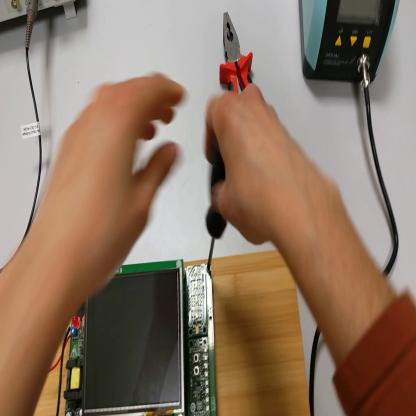hand: (42, 73, 183, 299), (204, 83, 307, 248)
low voltage board: (50, 259, 221, 413)
oscilloscope: (3, 3, 84, 35)
pliers: (221, 8, 254, 95)
screwdriver-: (203, 129, 225, 269)
welder station: (299, 2, 400, 88)
working area: (36, 249, 311, 416)
